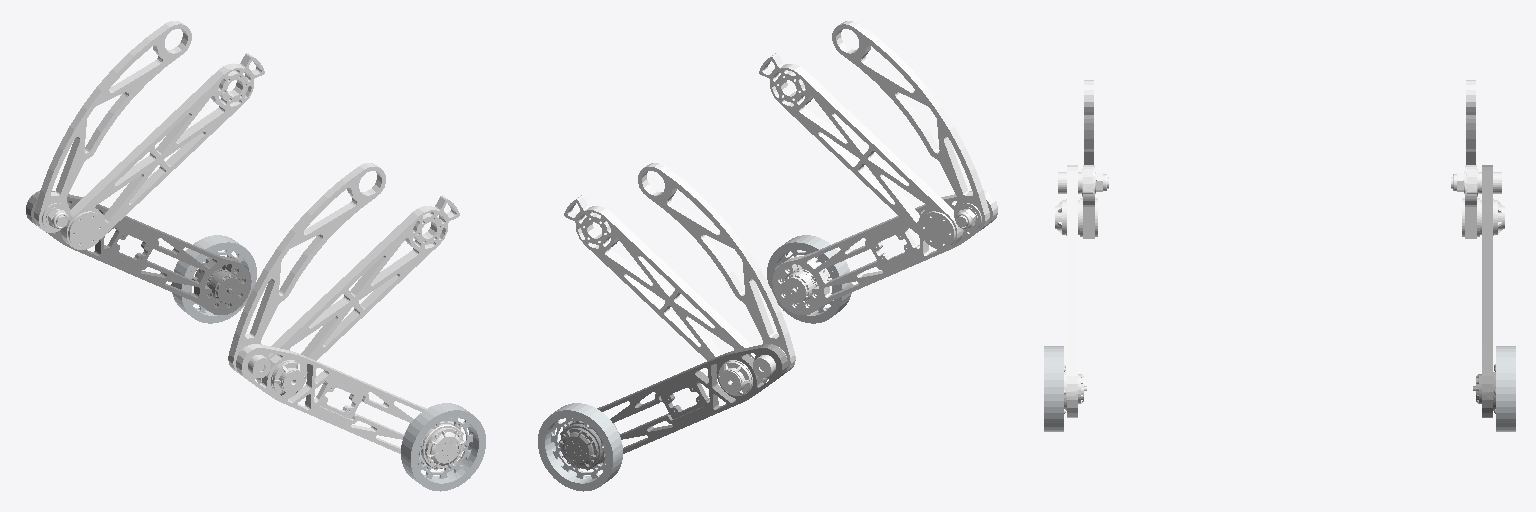
URDF robot description (wheel_leg):
<?xml version="1.0" encoding="utf-8"?>
<!-- This URDF was automatically created by SolidWorks to URDF Exporter! Originally created by [author] ([email redacted]) 
     Commit Version: 1.6.0-4-g7f85cfe  Build Version: 1.6.7995.38578
     For more information, please see http://wiki.ros.org/sw_urdf_exporter -->
<robot
  name="wheel_leg">
  <link
    name="body">
    <inertial>
      <origin
        xyz="-0.0114447581796383 -0.0008304966899257 -0.0195321753399737"
        rpy="0 0 0" />
      <mass
        value="6.37410218257267" />
      <inertia
        ixx="0.0133159702106144"
        ixy="8.46465076107667E-12"
        ixz="0.000336479893642314"
        iyy="0.0249611512851086"
        iyz="-5.82765966420402E-12"
        izz="0.0334235985838851" />
    </inertial>
    <visual>
      <origin
        xyz="0 0 0"
        rpy="0 0 0" />
      <geometry>
        <mesh
          filename="package://wheel_leg/meshes/body.STL" />
      </geometry>
      <material
        name="">
        <color
          rgba="0.752941176470588 0.752941176470588 0.752941176470588 1" />
      </material>
    </visual>
    <collision>
      <origin
        xyz="0 0 0"
        rpy="0 0 0" />
      <geometry>
        <mesh
          filename="package://wheel_leg/meshes/body.STL" />
      </geometry>
    </collision>
  </link>
  <link
    name="body_Lhleg">
    <inertial>
      <origin
        xyz="-0.14705 0.011637 -0.098549"
        rpy="0 0 0" />
      <mass
        value="0.52018" />
      <inertia
        ixx="0.0013773"
        ixy="-1.4931E-06"
        ixz="-0.0017679"
        iyy="0.0041441"
        iyz="-1.0002E-06"
        izz="0.0028304" />
    </inertial>
    <visual>
      <origin
        xyz="0 0 0"
        rpy="0 0 0" />
      <geometry>
        <mesh
          filename="package://wheel_leg/meshes/body_Lhleg.STL" />
      </geometry>
      <material
        name="">
        <color
          rgba="1 1 1 1" />
      </material>
    </visual>
    <collision>
      <origin
        xyz="0 0 0"
        rpy="0 0 0" />
      <geometry>
        <mesh
          filename="package://wheel_leg/meshes/body_Lhleg.STL" />
      </geometry>
    </collision>
  </link>
  <joint
    name="Lhleg"
    type="continuous">
    <origin
      xyz="0 0.258099999999996 0"
      rpy="0 0 0" />
    <parent
      link="body" />
    <child
      link="body_Lhleg" />
    <axis
      xyz="0 -1 0" />
  </joint>
  <link
    name="hleg_Llleg">
    <inertial>
      <origin
        xyz="0.14654 0.012275 -0.095215"
        rpy="0 0 0" />
      <mass
        value="0.33073" />
      <inertia
        ixx="0.00097779"
        ixy="2.7993E-06"
        ixz="0.0012454"
        iyy="0.0030072"
        iyz="-1.9876E-06"
        izz="0.0020673" />
    </inertial>
    <visual>
      <origin
        xyz="0 0 0"
        rpy="0 0 0" />
      <geometry>
        <mesh
          filename="package://wheel_leg/meshes/hleg_Llleg.STL" />
      </geometry>
      <material
        name="">
        <color
          rgba="0.69804 0.69804 0.69804 1" />
      </material>
    </visual>
    <collision>
      <origin
        xyz="0 0 0"
        rpy="0 0 0" />
      <geometry>
        <mesh
          filename="package://wheel_leg/meshes/hleg_Llleg.STL" />
      </geometry>
    </collision>
  </link>
  <joint
    name="Llleg"
    type="continuous">
    <origin
      xyz="-0.237247376845752 0.0229999999999895 -0.159000132640775"
      rpy="0 0 0" />
    <parent
      link="body_Lhleg" />
    <child
      link="hleg_Llleg" />
    <axis
      xyz="0 1 0" />
  </joint>
  <link
    name="Lleg_Lwheel">
    <inertial>
      <origin
        xyz="-4.2382E-06 0.0050966 1.157E-07"
        rpy="0 0 0" />
      <mass
        value="0.17352" />
      <inertia
        ixx="0.00024391"
        ixy="-2.062E-09"
        ixz="7.2121E-10"
        iyy="0.00046875"
        iyz="5.6291E-11"
        izz="0.00024394" />
    </inertial>
    <visual>
      <origin
        xyz="0 0 0"
        rpy="0 0 0" />
      <geometry>
        <mesh
          filename="package://wheel_leg/meshes/Lleg_Lwheel.STL" />
      </geometry>
      <material
        name="">
        <color
          rgba="0.89804 0.91765 0.92941 1" />
      </material>
    </visual>
    <collision>
      <origin
        xyz="0 0 0"
        rpy="0 0 0" />
      <geometry>
        <mesh
          filename="package://wheel_leg/meshes/Lleg_Lwheel.STL" />
      </geometry>
    </collision>
  </link>
  <joint
    name="Lwheel"
    type="continuous">
    <origin
      xyz="0.236786917787768 0.0280499999999997 -0.153153372684241"
      rpy="0 0 0" />
    <parent
      link="hleg_Llleg" />
    <child
      link="Lleg_Lwheel" />
    <axis
      xyz="0 1 0" />
  </joint>
  <link
    name="body_Lrod">
    <inertial>
      <origin
        xyz="-0.159780095314809 0.011038146078772 -0.169922246812436"
        rpy="0 0 0" />
      <mass
        value="0.591101590483113" />
      <inertia
        ixx="0.00137777986284214"
        ixy="3.48484960450894E-13"
        ixz="-0.0010556297829666"
        iyy="0.00237174522976818"
        iyz="-1.43978202661194E-13"
        izz="0.00116433406366747" />
    </inertial>
    <visual>
      <origin
        xyz="0 0 0"
        rpy="0 0 0" />
      <geometry>
        <mesh
          filename="package://wheel_leg/meshes/body_Lrod.STL" />
      </geometry>
      <material
        name="">
        <color
          rgba="1 1 1 1" />
      </material>
    </visual>
    <collision>
      <origin
        xyz="0 0 0"
        rpy="0 0 0" />
      <geometry>
        <mesh
          filename="package://wheel_leg/meshes/body_Lrod.STL" />
      </geometry>
    </collision>
  </link>
  <joint
    name="Lrod"
    type="continuous">
    <origin
      xyz="-0.0923976430976348 0.2597 0.0923976430976308"
      rpy="0 0 0" />
    <parent
      link="body" />
    <child
      link="body_Lrod" />
    <axis
      xyz="0 -1 0" />
  </joint>
  <link
    name="body_Rhleg">
    <inertial>
      <origin
        xyz="0.147047845395129 0.0116371376290857 -0.0985491782989628"
        rpy="0 0 0" />
      <mass
        value="0.520183061878358" />
      <inertia
        ixx="0.0013772718483835"
        ixy="1.49309514852179E-06"
        ixz="0.00176789005413663"
        iyy="0.00414412970970827"
        iyz="-1.0002132711144E-06"
        izz="0.00283036004387134" />
    </inertial>
    <visual>
      <origin
        xyz="0 0 0"
        rpy="0 0 0" />
      <geometry>
        <mesh
          filename="package://wheel_leg/meshes/body_Rhleg.STL" />
      </geometry>
      <material
        name="">
        <color
          rgba="1 1 1 1" />
      </material>
    </visual>
    <collision>
      <origin
        xyz="0 0 0"
        rpy="0 0 0" />
      <geometry>
        <mesh
          filename="package://wheel_leg/meshes/body_Rhleg.STL" />
      </geometry>
    </collision>
  </link>
  <joint
    name="Rhleg"
    type="continuous">
    <origin
      xyz="0 -0.258100000000007 0"
      rpy="0 0 3.14159265358979" />
    <parent
      link="body" />
    <child
      link="body_Rhleg" />
    <axis
      xyz="0 1 0" />
  </joint>
  <link
    name="Rhleg_Rlleg">
    <inertial>
      <origin
        xyz="-0.12836687496156 0.0103192784041736 -0.0835122838421141"
        rpy="0 0 0" />
      <mass
        value="0.539924907706736" />
      <inertia
        ixx="0.00187875336625249"
        ixy="-5.37257232114557E-06"
        ixz="-0.00244221743327067"
        iyy="0.00584795629014114"
        iyz="-3.69625527021459E-06"
        izz="0.00401461678707642" />
    </inertial>
    <visual>
      <origin
        xyz="0 0 0"
        rpy="0 0 0" />
      <geometry>
        <mesh
          filename="package://wheel_leg/meshes/Rhleg_Rlleg.STL" />
      </geometry>
      <material
        name="">
        <color
          rgba="1 1 1 1" />
      </material>
    </visual>
    <collision>
      <origin
        xyz="0 0 0"
        rpy="0 0 0" />
      <geometry>
        <mesh
          filename="package://wheel_leg/meshes/Rhleg_Rlleg.STL" />
      </geometry>
    </collision>
  </link>
  <joint
    name="Rlleg"
    type="continuous">
    <origin
      xyz="0.237247376845051 0.0229999999999997 -0.159000132640695"
      rpy="0 0 0" />
    <parent
      link="body_Rhleg" />
    <child
      link="Rhleg_Rlleg" />
    <axis
      xyz="0 1 0" />
  </joint>
  <link
    name="Rlleg_Rwheel">
    <inertial>
      <origin
        xyz="4.23820144357379E-06 0.0050965727978543 1.15698335745318E-07"
        rpy="0 0 0" />
      <mass
        value="0.173520730578001" />
      <inertia
        ixx="0.000243908124832624"
        ixy="2.06200421139582E-09"
        ixz="-7.21212734459765E-10"
        iyy="0.000468745184860407"
        iyz="5.62906063461901E-11"
        izz="0.000243935618566337" />
    </inertial>
    <visual>
      <origin
        xyz="0 0 0"
        rpy="0 0 0" />
      <geometry>
        <mesh
          filename="package://wheel_leg/meshes/Rlleg_Rwheel.STL" />
      </geometry>
      <material
        name="">
        <color
          rgba="0.898039215686275 0.917647058823529 0.929411764705882 1" />
      </material>
    </visual>
    <collision>
      <origin
        xyz="0 0 0"
        rpy="0 0 0" />
      <geometry>
        <mesh
          filename="package://wheel_leg/meshes/Rlleg_Rwheel.STL" />
      </geometry>
    </collision>
  </link>
  <joint
    name="Rwheel"
    type="continuous">
    <origin
      xyz="-0.236786917790487 0.0280499999999995 -0.153153372684284"
      rpy="0 0 0" />
    <parent
      link="Rhleg_Rlleg" />
    <child
      link="Rlleg_Rwheel" />
    <axis
      xyz="0 -1 0" />
  </joint>
  <link
    name="body_Rrod">
    <inertial>
      <origin
        xyz="0.159780095698218 0.0110381458573113 -0.169922247400722"
        rpy="0 0 0" />
      <mass
        value="0.591101597366677" />
      <inertia
        ixx="0.00137777986290563"
        ixy="-3.48484906721008E-13"
        ixz="0.00105562978268343"
        iyy="0.00237174523012257"
        iyz="-1.43978094180314E-13"
        izz="0.00116433406424617" />
    </inertial>
    <visual>
      <origin
        xyz="0 0 0"
        rpy="0 0 0" />
      <geometry>
        <mesh
          filename="package://wheel_leg/meshes/body_Rrod.STL" />
      </geometry>
      <material
        name="">
        <color
          rgba="1 1 1 1" />
      </material>
    </visual>
    <collision>
      <origin
        xyz="0 0 0"
        rpy="0 0 0" />
      <geometry>
        <mesh
          filename="package://wheel_leg/meshes/body_Rrod.STL" />
      </geometry>
    </collision>
  </link>
  <joint
    name="Rrod"
    type="continuous">
    <origin
      xyz="-0.0923976430976395 -0.259699999999998 0.0923976430976074"
      rpy="0 0 3.14159265358979" />
    <parent
      link="body" />
    <child
      link="body_Rrod" />
    <axis
      xyz="0 -1 0" />
  </joint>
</robot>

--- Facts derived from the render (not from the file) ---
The picture shows the robot from 3 angles, left to right: view 1: azimuth 30°, elevation 25°; view 2: azimuth 150°, elevation 25°; view 3: azimuth 270°, elevation 25°; orthographic projection.
Model wheel_leg with 9 links and 8 joints (8 continuous), rooted at body, posed every joint at zero.
Links seen in each view (by area): view 1: body_Lhleg, body_Rhleg, Rhleg_Rlleg, hleg_Llleg, body_Lrod, body_Rrod, Rlleg_Rwheel, Lleg_Lwheel; view 2: body_Rhleg, body_Lhleg, hleg_Llleg, Rhleg_Rlleg, body_Rrod, body_Lrod, Lleg_Lwheel, Rlleg_Rwheel; view 3: hleg_Llleg, Rhleg_Rlleg, Lleg_Lwheel, Rlleg_Rwheel, body_Lhleg, body_Rhleg, body_Lrod, body_Rrod.
Boxes of the visible links, box(x1,y1,x2,y2) form: body_Lhleg: box(60, 53, 264, 249); body_Rhleg: box(256, 195, 459, 395); Rhleg_Rlleg: box(236, 344, 464, 470); hleg_Llleg: box(26, 191, 251, 314); body_Lrod: box(27, 21, 191, 232); body_Rrod: box(228, 163, 385, 377); Rlleg_Rwheel: box(401, 403, 485, 491); Lleg_Lwheel: box(171, 235, 256, 323); body_Rhleg: box(759, 53, 963, 249); body_Lhleg: box(564, 195, 767, 395); hleg_Llleg: box(559, 344, 787, 470); Rhleg_Rlleg: box(772, 191, 997, 314); body_Rrod: box(832, 21, 996, 232); body_Lrod: box(638, 163, 795, 377); Lleg_Lwheel: box(538, 403, 622, 491); Rlleg_Rwheel: box(767, 235, 852, 323); hleg_Llleg: box(1473, 165, 1495, 417); Rhleg_Rlleg: box(1064, 165, 1086, 417); Lleg_Lwheel: box(1496, 346, 1515, 431); Rlleg_Rwheel: box(1044, 346, 1063, 431); body_Lhleg: box(1462, 165, 1504, 238); body_Rhleg: box(1055, 165, 1097, 238); body_Lrod: box(1451, 80, 1501, 196); body_Rrod: box(1058, 80, 1108, 196).
Size in the robot's own frame: 0.3696 by 0.6563 by 0.4895 metres.
8 mesh visuals loaded from 9 distinct referenced files (8 binary STL); not drawn: 1 (reference not matched to a file when rendering).